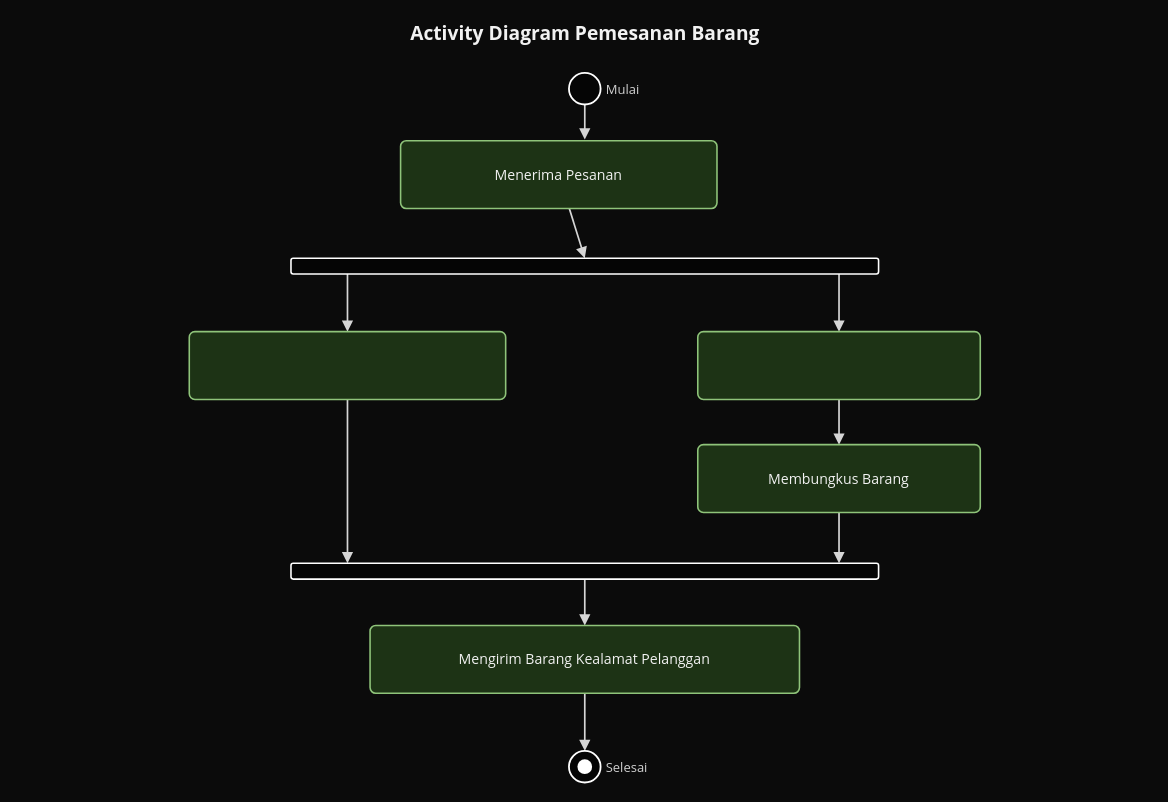
This 1168x802 diagram has some shape labels left out. The shapes that lost their labels are listed below. From the top down, each one's box as (x1, y1, x2, y2) in pixels, then its label:
(188, 330, 506, 400): Membuat Surat Jalan
(696, 330, 981, 400): Menyiapkan Barang
